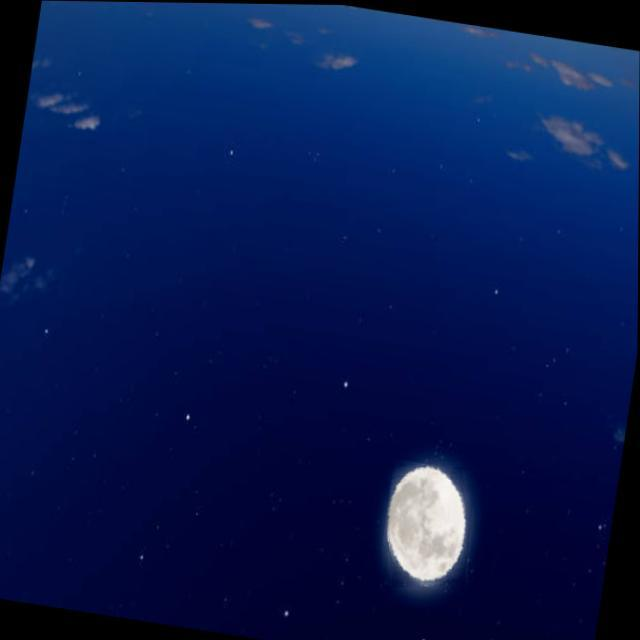moon: (378, 458, 482, 594)
